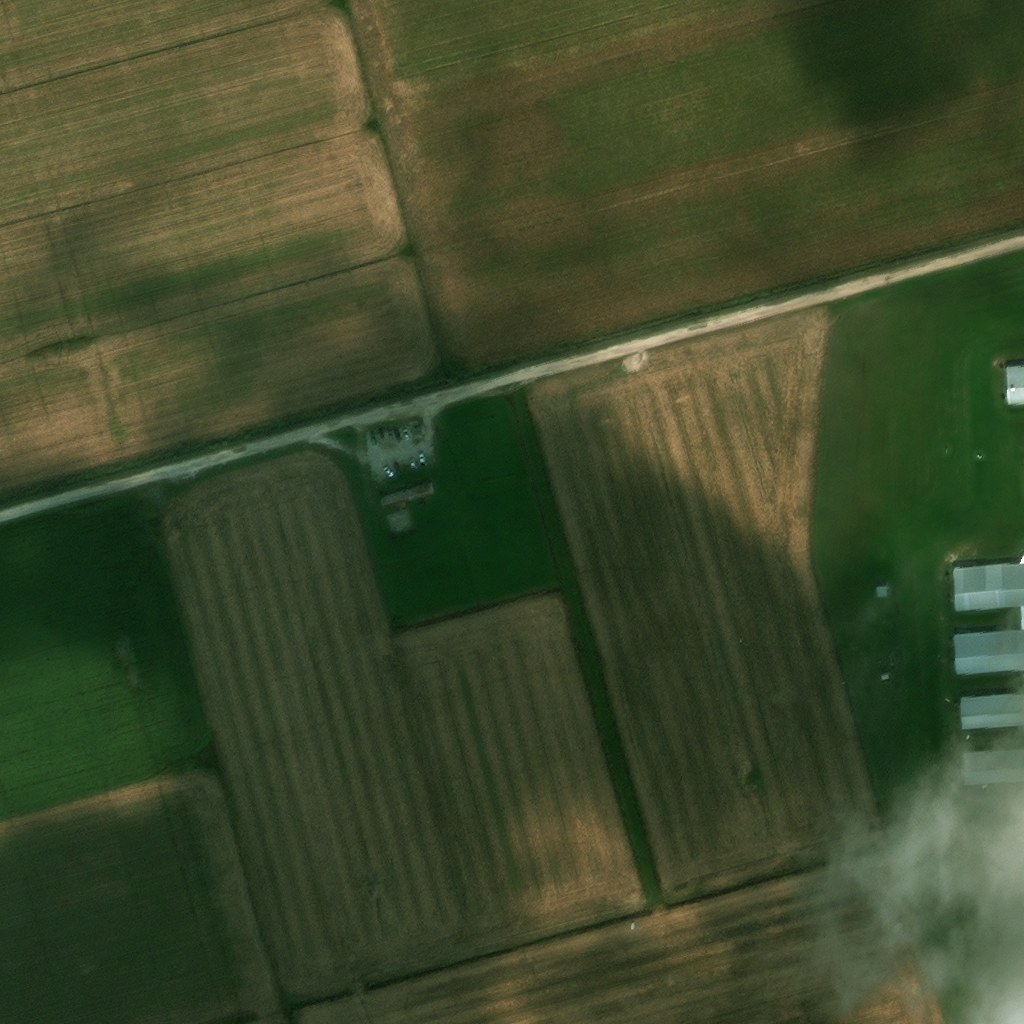no_damage: (947, 562, 1022, 614), (947, 629, 1022, 675), (954, 691, 1022, 729), (956, 747, 1022, 784), (379, 484, 436, 512), (1000, 364, 1022, 405), (875, 586, 891, 597), (879, 674, 890, 681)
